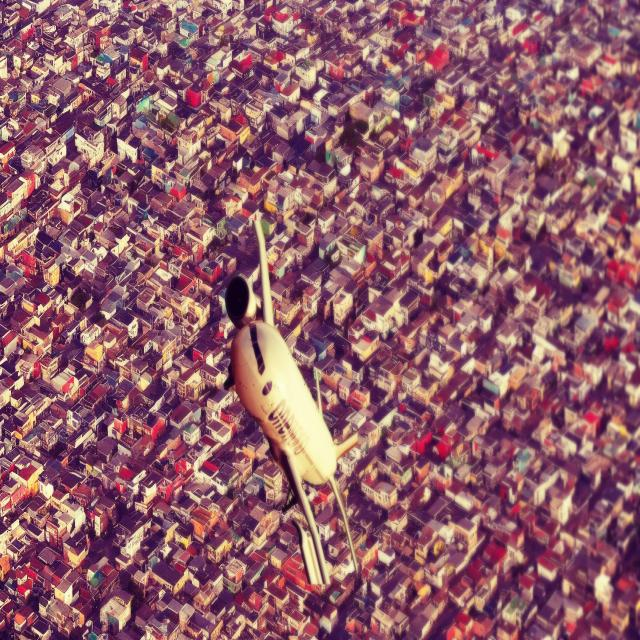airplane: (222, 209, 360, 591)
